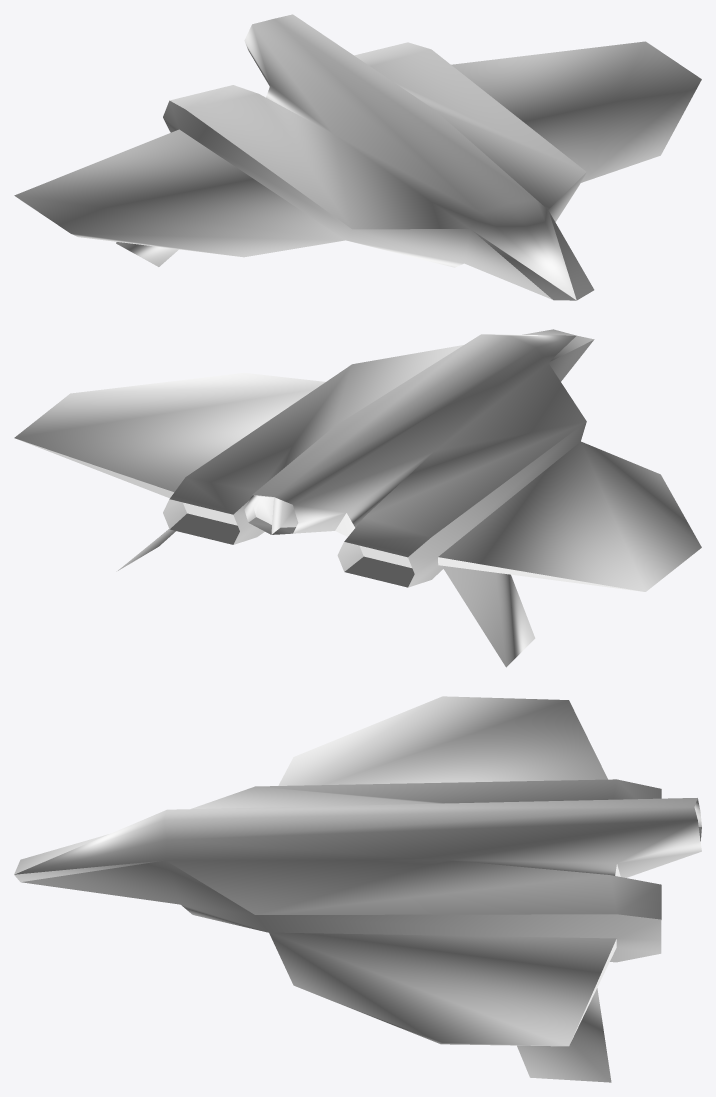
File: icon.ico.obj
3 renders of one model, top to bottom at view 1: azimuth 30°, elevation 25°; view 2: azimuth 150°, elevation 25°; view 3: azimuth 270°, elevation 25°, orthographic. The views are drawn at different scales.
Bounding box in the file's own units: 4.39 × 0.9963 × 3.69.
Materials: 1 (1 with a texture image).
